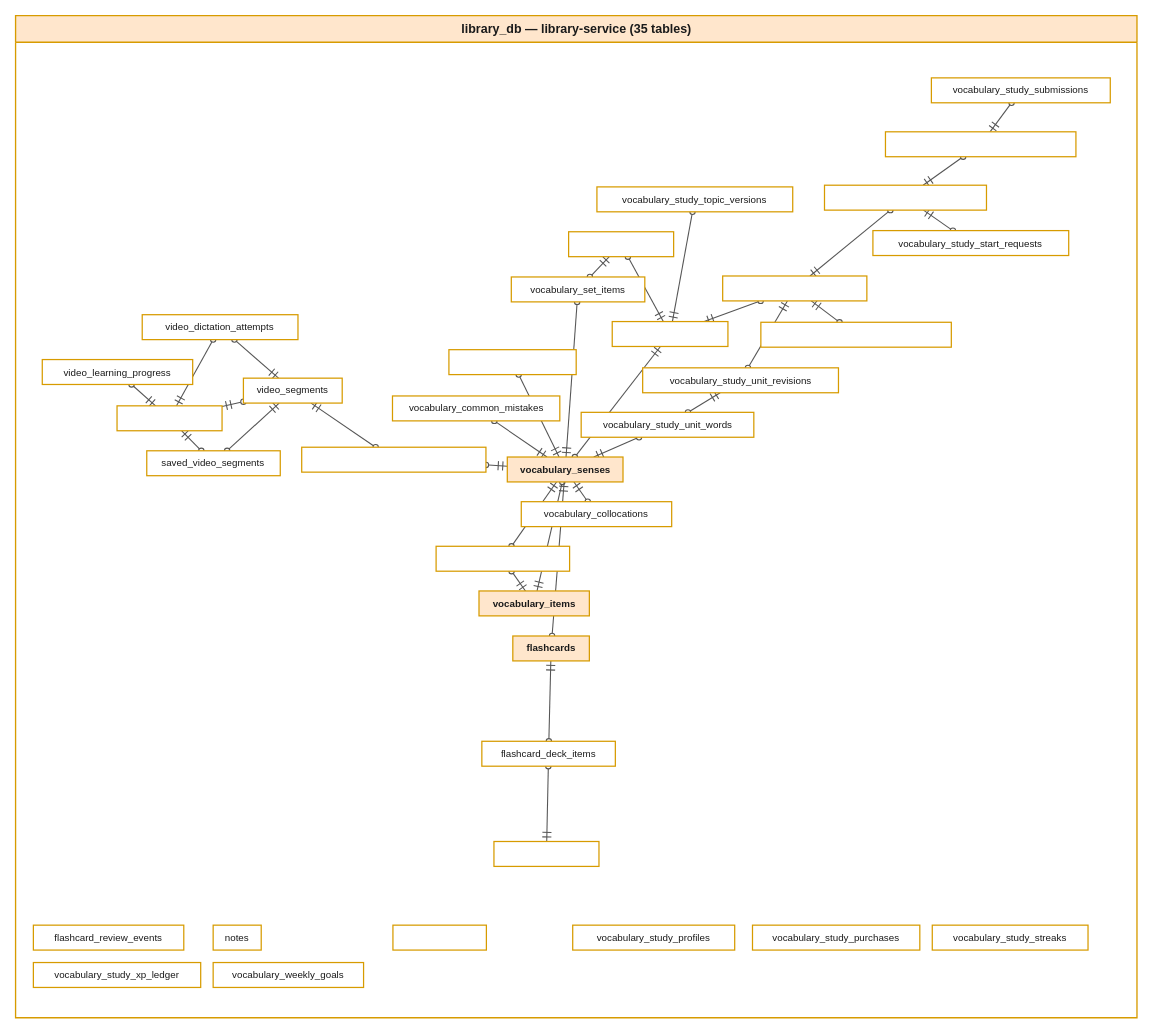
This 1153x1034 diagram has some shape labels left out. Each missing label, with the centre of its shape:
"flashcard_decks" goes at (x=546, y=853).
"learning_videos" goes at (x=169, y=418).
"outbox_events" goes at (x=439, y=937).
"video_segment_lexical_entries" goes at (x=393, y=459).
"vocabulary_examples" goes at (x=512, y=362).
"vocabulary_relations" goes at (x=502, y=558).
"vocabulary_sets" goes at (x=621, y=244).
"vocabulary_study_attempt_steps" goes at (x=980, y=144).
"vocabulary_study_attempts" goes at (x=905, y=197).
"vocabulary_study_unit_progress" goes at (x=855, y=334).
"vocabulary_study_units" goes at (x=794, y=288).
"vocabulary_topics" goes at (x=669, y=333).
